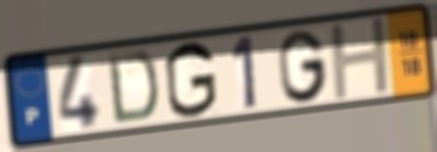1: (228, 32, 259, 113)
4: (56, 52, 103, 135)
D: (104, 48, 161, 127)
G: (162, 39, 220, 121), (275, 27, 331, 106)
H: (327, 13, 395, 104)
